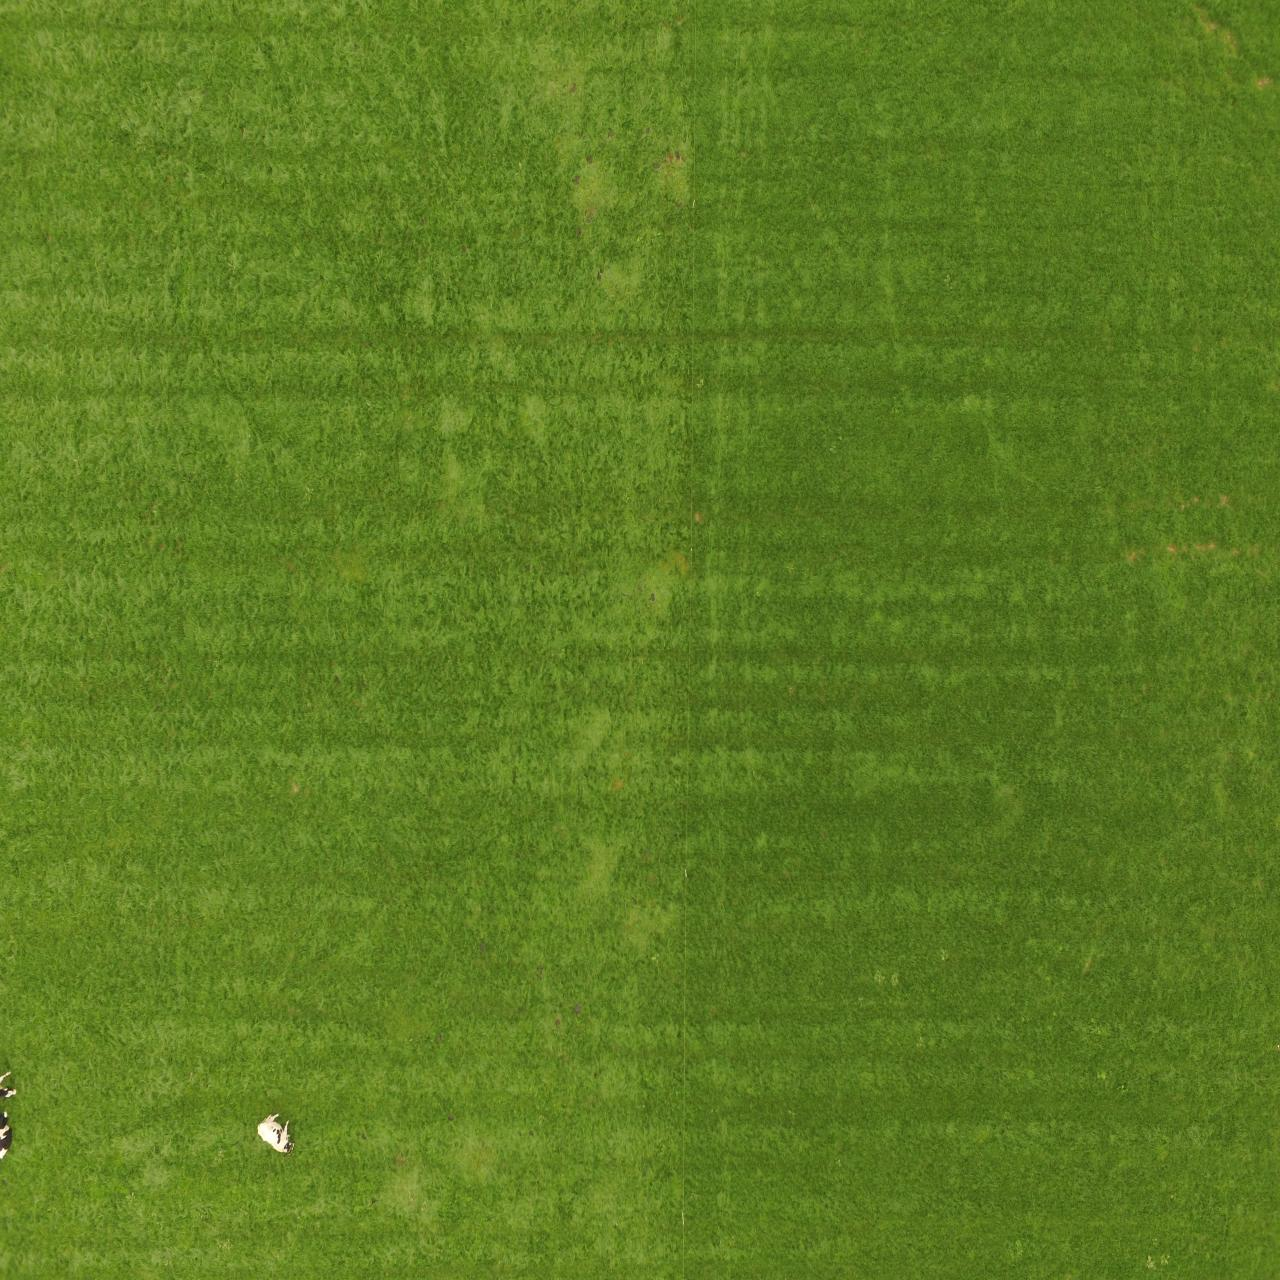cow: (257, 1110, 295, 1153)
